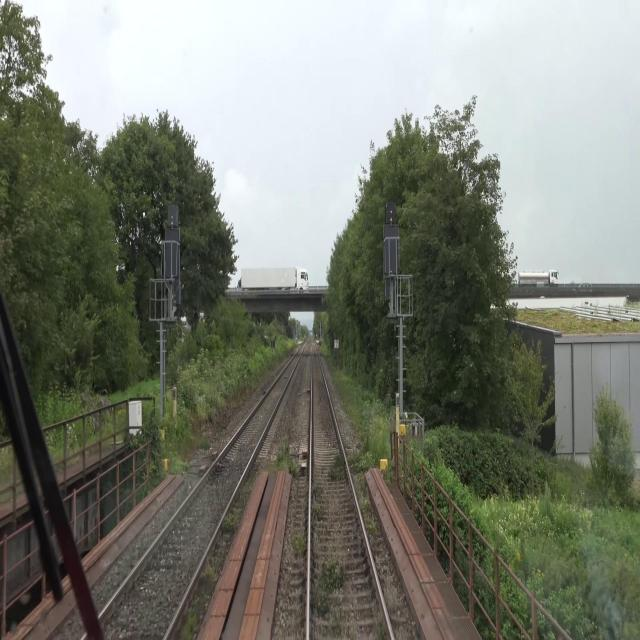rail-track: (85, 350, 300, 639), (311, 346, 390, 639)
